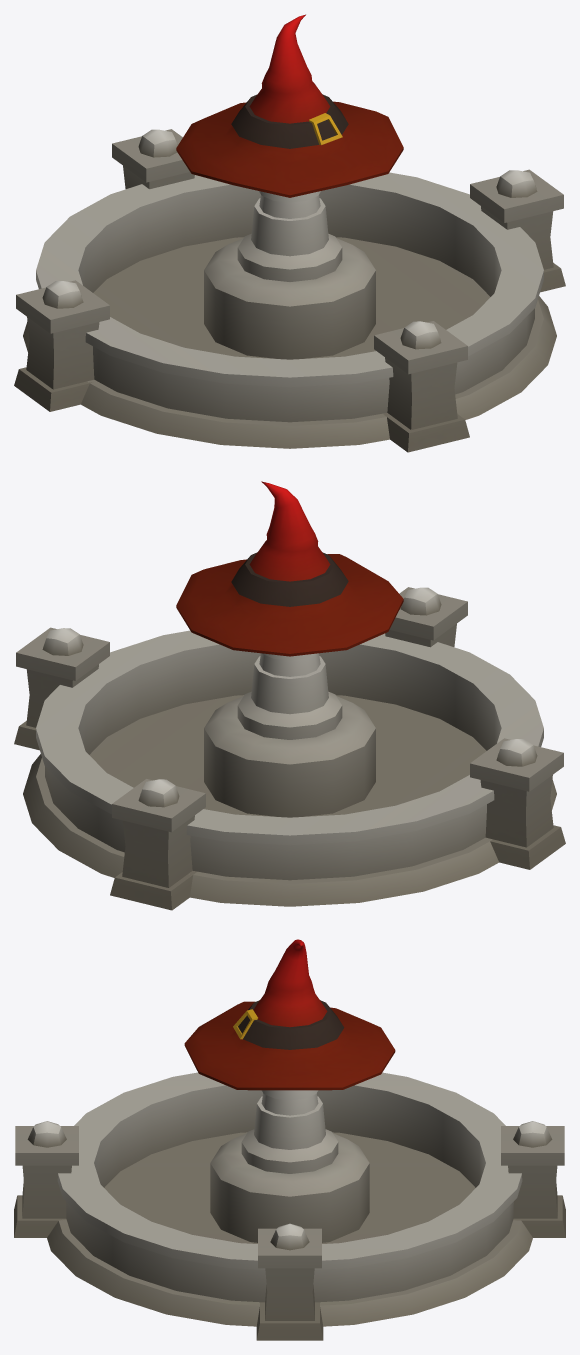
File: Fountain.fbx
The picture shows the model from 3 angles, top to bottom: view 1: azimuth 30°, elevation 25°; view 2: azimuth 150°, elevation 25°; view 3: azimuth 270°, elevation 25°; orthographic projection. The views are drawn at different scales.
Visible parts, largest first — view 1: Cube.066; view 2: Cube.066; view 3: Cube.066.
Boxes of the visible parts, left/top/right/bottom form: Cube.066: left=14, top=14, right=565, bottom=452; Cube.066: left=14, top=481, right=565, bottom=910; Cube.066: left=14, top=939, right=565, bottom=1340.
Bounding box in the file's own units: 5.75 × 3.32 × 5.75.
